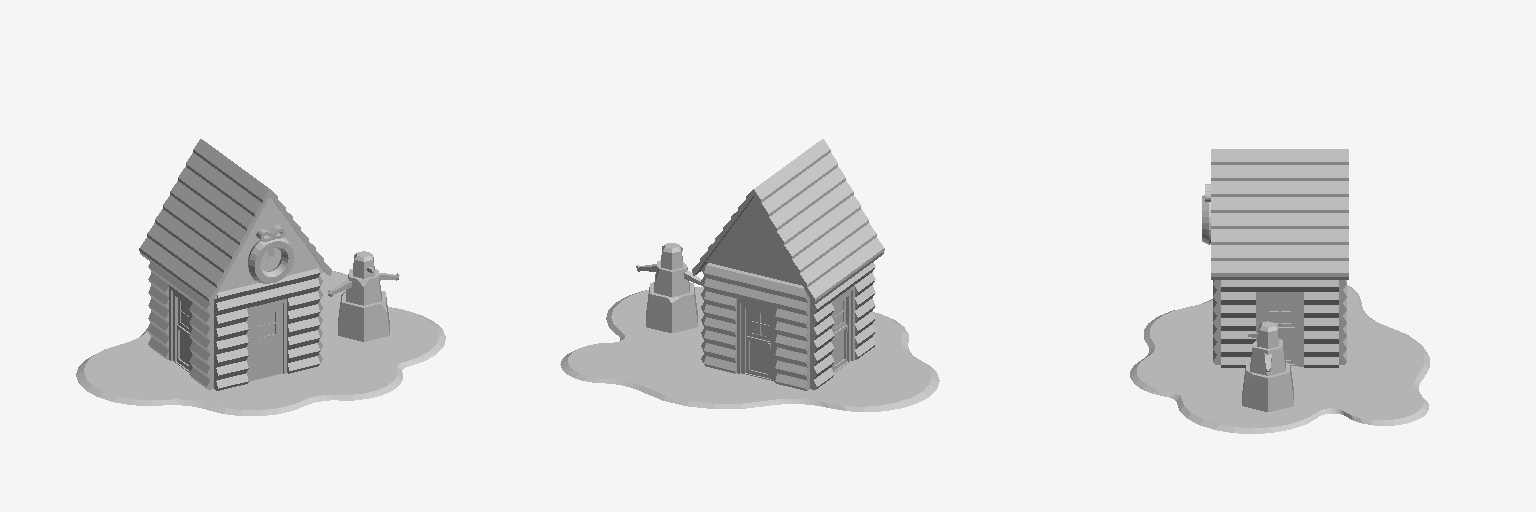
File: modelchristmas.obj
3 renders of one model, left to right at view 1: azimuth 30°, elevation 25°; view 2: azimuth 150°, elevation 25°; view 3: azimuth 270°, elevation 25°, orthographic.
Size of the model in its own units: 3.26 by 1.82 by 2.55.